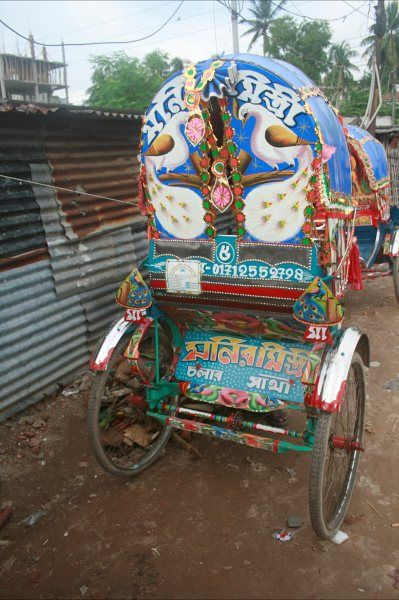Rickshaw: (83, 42, 379, 538), (339, 113, 397, 283)
